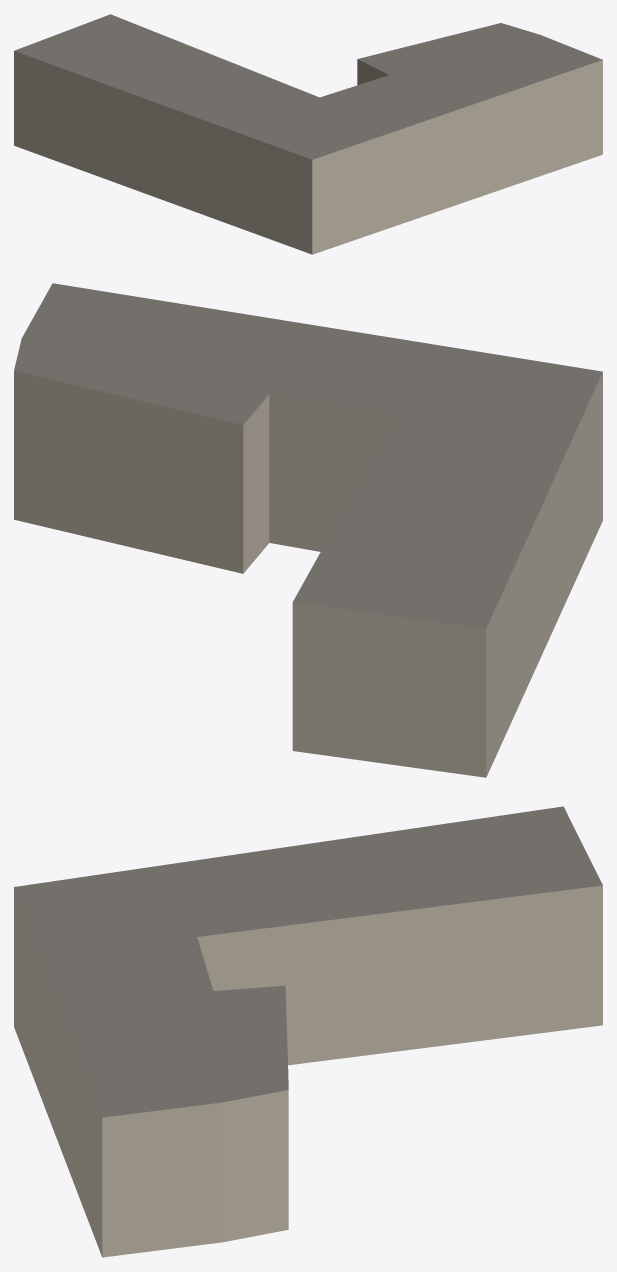
The picture shows the model from 3 angles, top to bottom: view 1: azimuth 30°, elevation 25°; view 2: azimuth 150°, elevation 25°; view 3: azimuth 270°, elevation 25°; orthographic projection. The views are drawn at different scales.
Visible parts, largest first — view 1: HP-w496383036; view 2: HP-w496383036; view 3: HP-w496383036.
Boxes of the visible parts, bbox=[...] form: HP-w496383036: bbox=[14, 14, 602, 254]; HP-w496383036: bbox=[14, 283, 602, 777]; HP-w496383036: bbox=[14, 806, 602, 1257].
Bounding box in the file's own units: 57.27 × 12 × 45.79.
